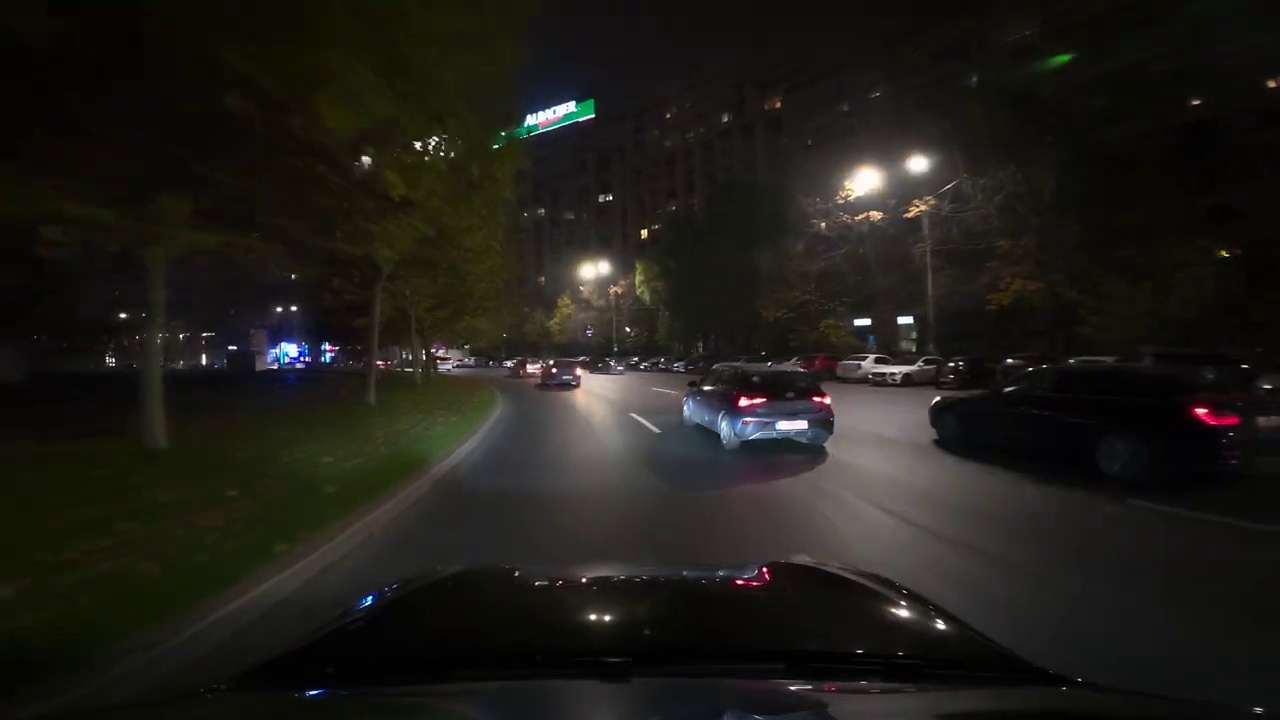acesa: (840, 164, 884, 201), (577, 257, 609, 285), (901, 151, 932, 178)
